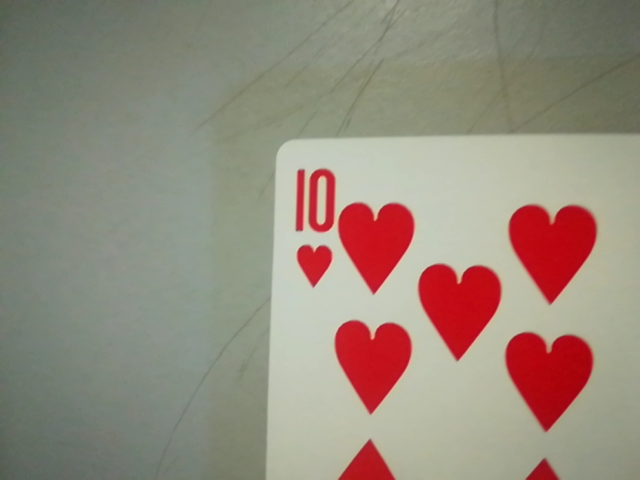hx 10: (282, 158, 342, 292)
